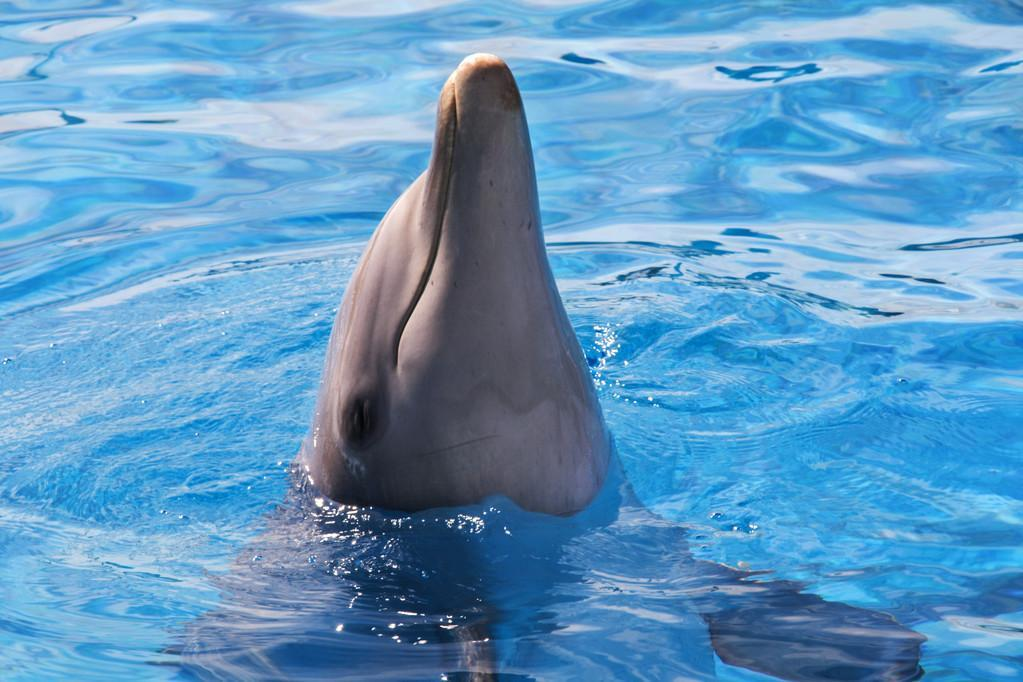fish: (170, 50, 934, 677)
